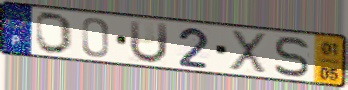0: (80, 16, 111, 59)
2: (174, 24, 213, 71)
O: (34, 11, 75, 56)
S: (273, 36, 312, 80)
U: (127, 19, 170, 65)
X: (227, 28, 268, 77)
